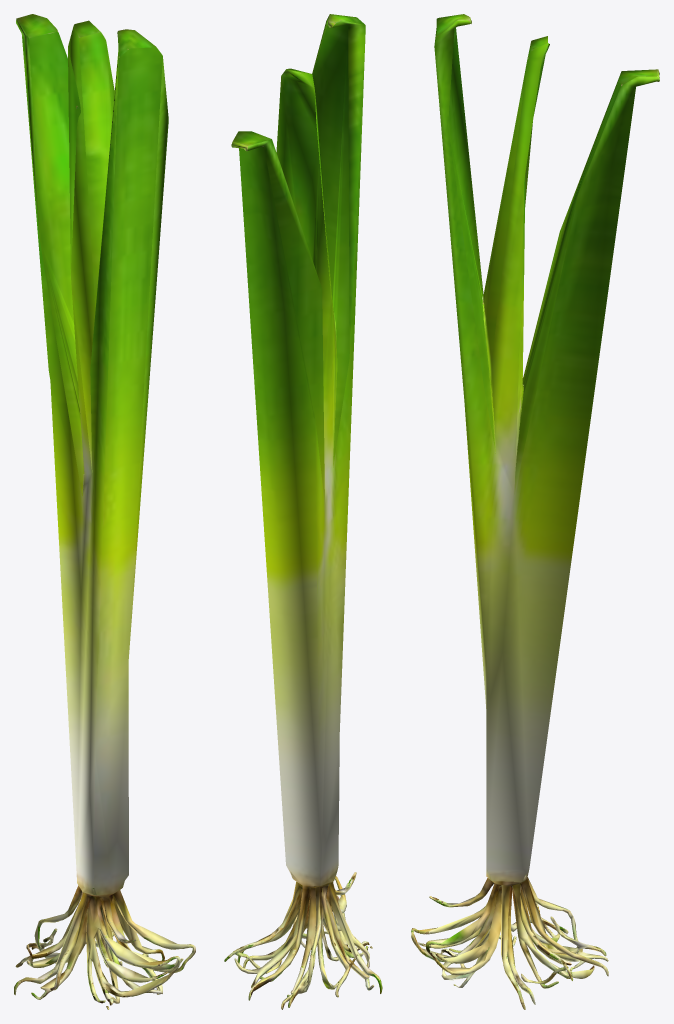
The model's file is scallion.glb.
3 views of the same model, side by side, from view 1: azimuth 30°, elevation 25°; view 2: azimuth 150°, elevation 25°; view 3: azimuth 270°, elevation 25° (orthographic). The views are drawn at different scales.
Parts seen in each view (by area): view 1: mesh; view 2: mesh; view 3: mesh.
Part boxes in pixels (x1,y1,x2,y2): mesh: [14, 14, 195, 1009]; mesh: [224, 14, 382, 1009]; mesh: [411, 14, 659, 1009].
Bounding box in the file's own units: 0.3202 × 1.99 × 0.4685.
1 material, 1 textured.
